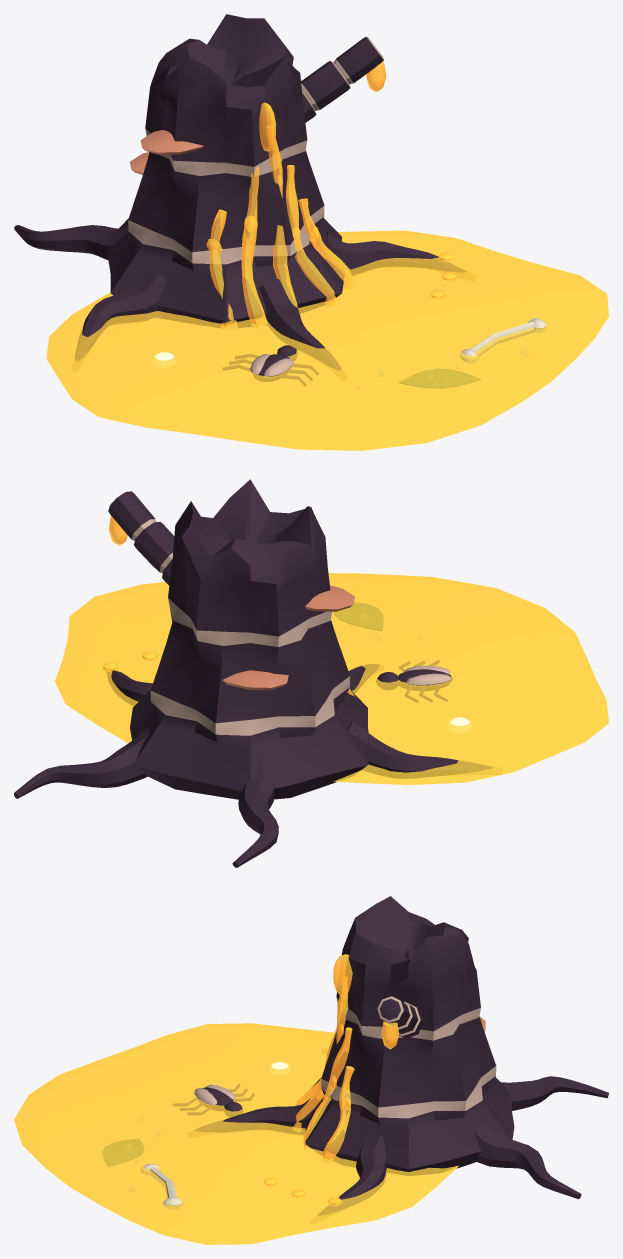
File: deco_resin_pool.fbx
3 views of the same model, one above another, from view 1: azimuth 30°, elevation 25°; view 2: azimuth 150°, elevation 25°; view 3: azimuth 270°, elevation 25° (orthographic). The views are drawn at different scales.
Visible parts, largest first — view 1: ResinPool_Pool, ResinPool_Stump, ResinPool_Drips, ResinPool_Trapped; view 2: ResinPool_Stump, ResinPool_Pool, ResinPool_Trapped, ResinPool_Drips; view 3: ResinPool_Pool, ResinPool_Stump, ResinPool_Drips, ResinPool_Trapped.
Part boxes in pixels (x1=…): ResinPool_Pool: x1=46, y1=230, x2=608, y2=450; ResinPool_Stump: x1=14, y1=14, x2=466, y2=370; ResinPool_Drips: x1=206, y1=61, x2=456, y2=330; ResinPool_Trapped: x1=153, y1=318, x2=546, y2=388; ResinPool_Stump: x1=14, y1=479, x2=492, y2=867; ResinPool_Pool: x1=55, y1=573, x2=608, y2=784; ResinPool_Trapped: x1=334, y1=602, x2=471, y2=732; ResinPool_Drips: x1=103, y1=516, x2=355, y2=696; ResinPool_Pool: x1=14, y1=1023, x2=458, y2=1244; ResinPool_Stump: x1=194, y1=896, x2=608, y2=1215; ResinPool_Drips: x1=263, y1=954, x2=398, y2=1205; ResinPool_Trapped: x1=102, y1=1062, x2=290, y2=1209.
Size of the model in its own units: 285 by 135 by 323.
